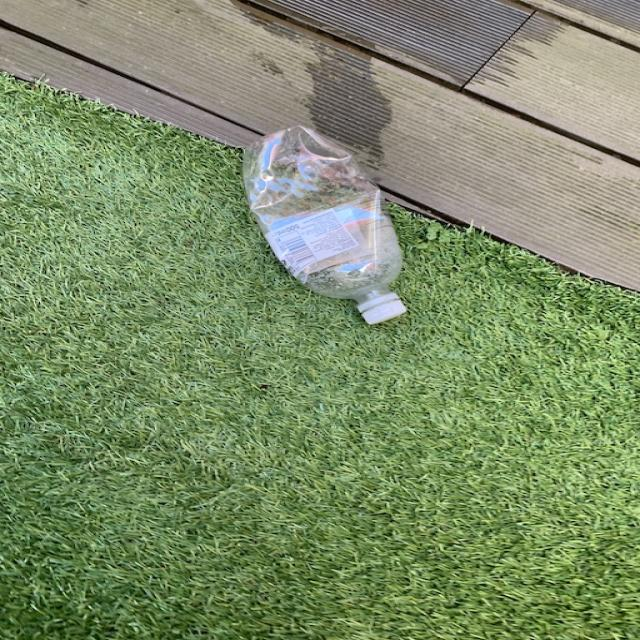litter: (238, 126, 418, 327)
